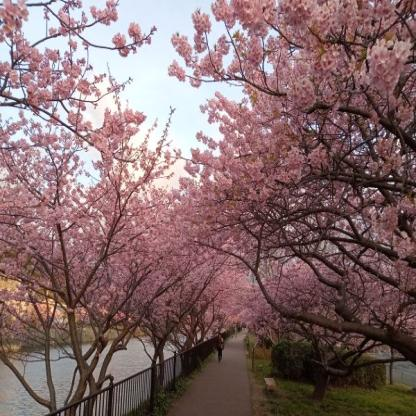KawazuSakura: (183, 0, 416, 359), (0, 0, 229, 365)
